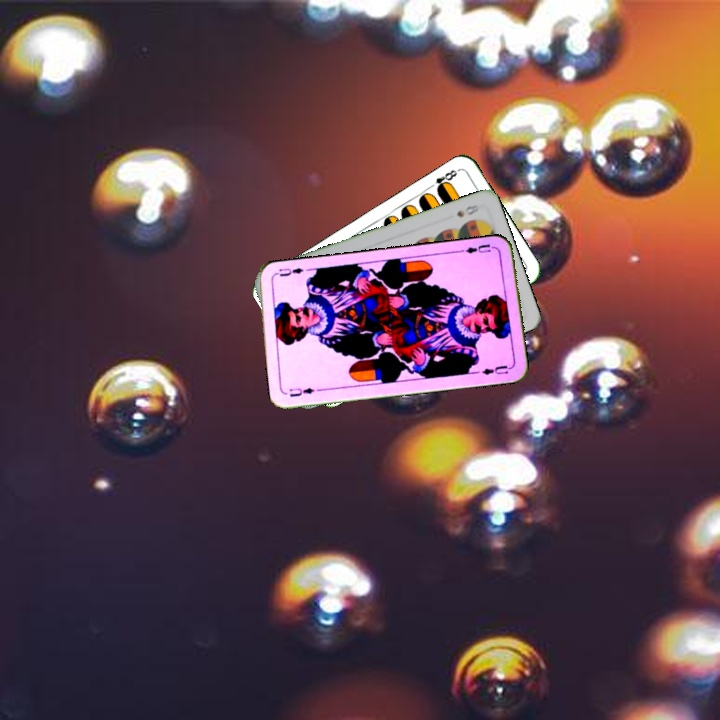E8: (425, 165, 462, 195)
EU: (462, 240, 498, 256), (285, 383, 317, 399)
S8: (452, 200, 481, 220)
